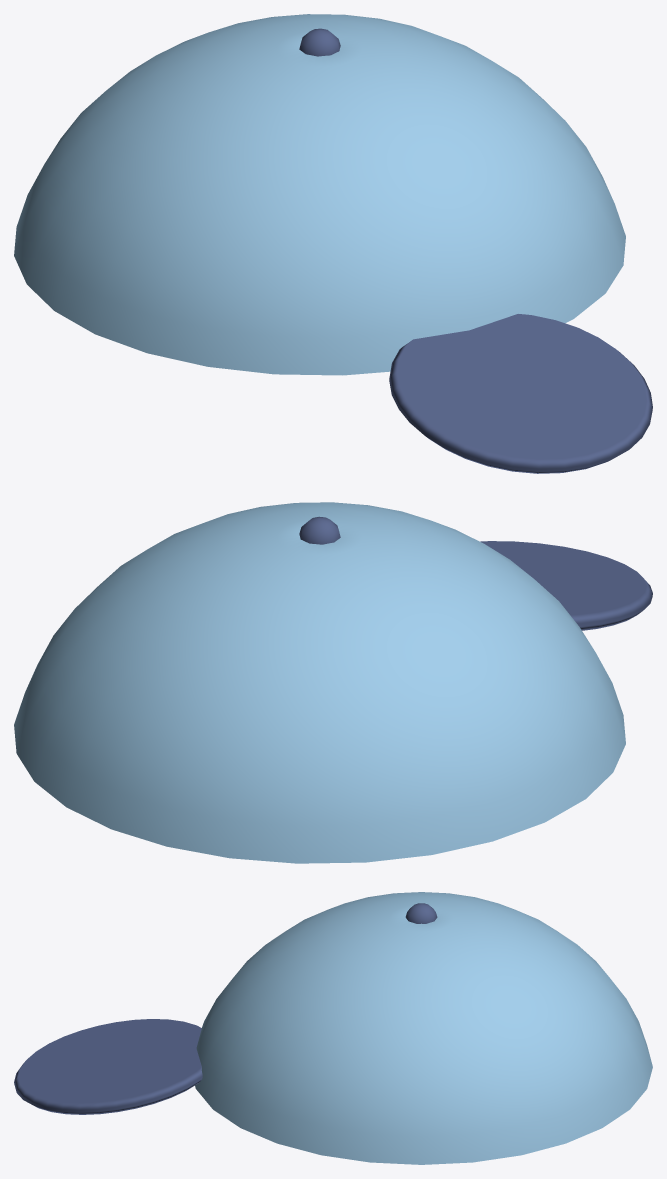
File: cycling_cap.glb
The picture shows the model from 3 angles, top to bottom: view 1: azimuth 30°, elevation 25°; view 2: azimuth 150°, elevation 25°; view 3: azimuth 270°, elevation 25°; orthographic projection. The views are drawn at different scales.
Visible parts, largest first — view 1: cycling_cap_Head; view 2: cycling_cap_Head; view 3: cycling_cap_Head.
Boxes of the visible parts, <box> form: cycling_cap_Head: <box>14,14,652,473</box>; cycling_cap_Head: <box>14,502,652,863</box>; cycling_cap_Head: <box>14,892,652,1164</box>.
Bounding box in the file's own units: 0.6966 × 0.3057 × 0.9615.
